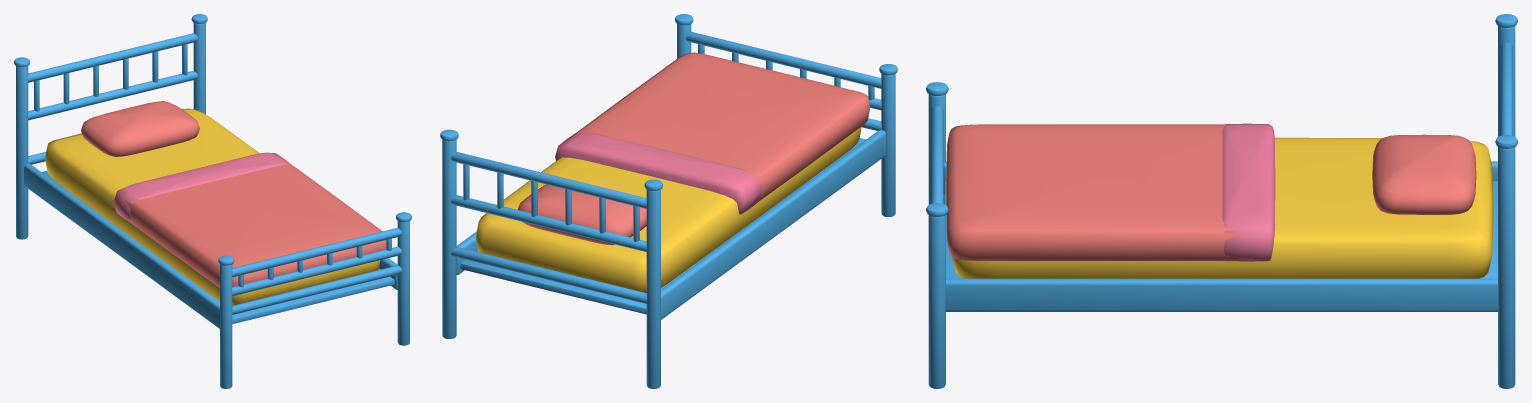
File: cama_solteiro_tubo_azul.glb
3 renders of one model, left to right at view 1: azimuth 30°, elevation 25°; view 2: azimuth 150°, elevation 25°; view 3: azimuth 270°, elevation 25°, orthographic. The views are drawn at different scales.
Parts seen in each view (by area): view 1: cama_solteiro_tubo_azul; view 2: cama_solteiro_tubo_azul; view 3: cama_solteiro_tubo_azul.
Boxes of the visible parts, <box> form: cama_solteiro_tubo_azul: <box>14,14,411,388</box>; cama_solteiro_tubo_azul: <box>440,14,897,388</box>; cama_solteiro_tubo_azul: <box>926,14,1517,388</box>.
Bounding box in the file's own units: 1.07 × 0.945 × 2.05.
1 material, 1 textured.
